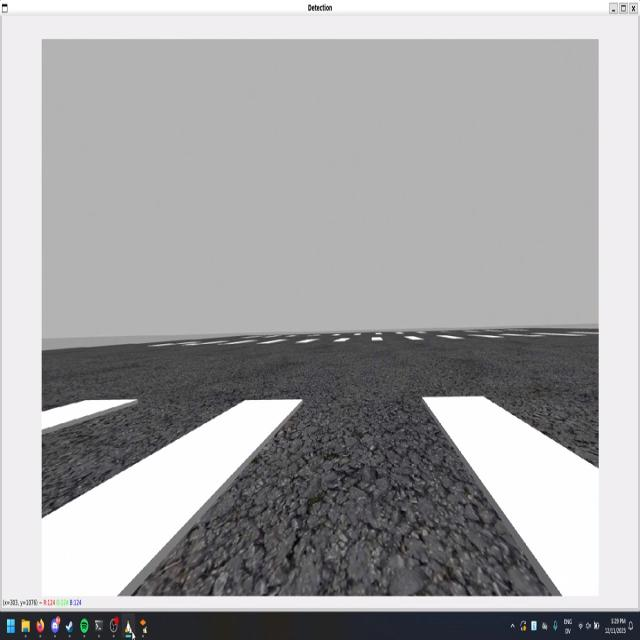crosswalk: (42, 395, 598, 596)
